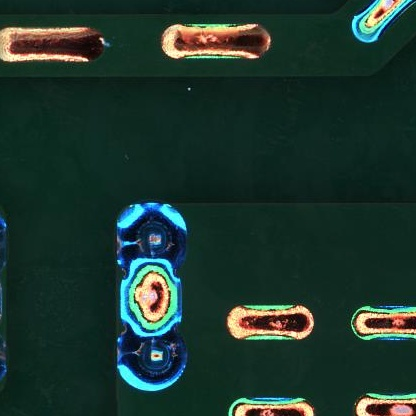spot: (117, 323, 187, 392), (118, 205, 188, 267)
